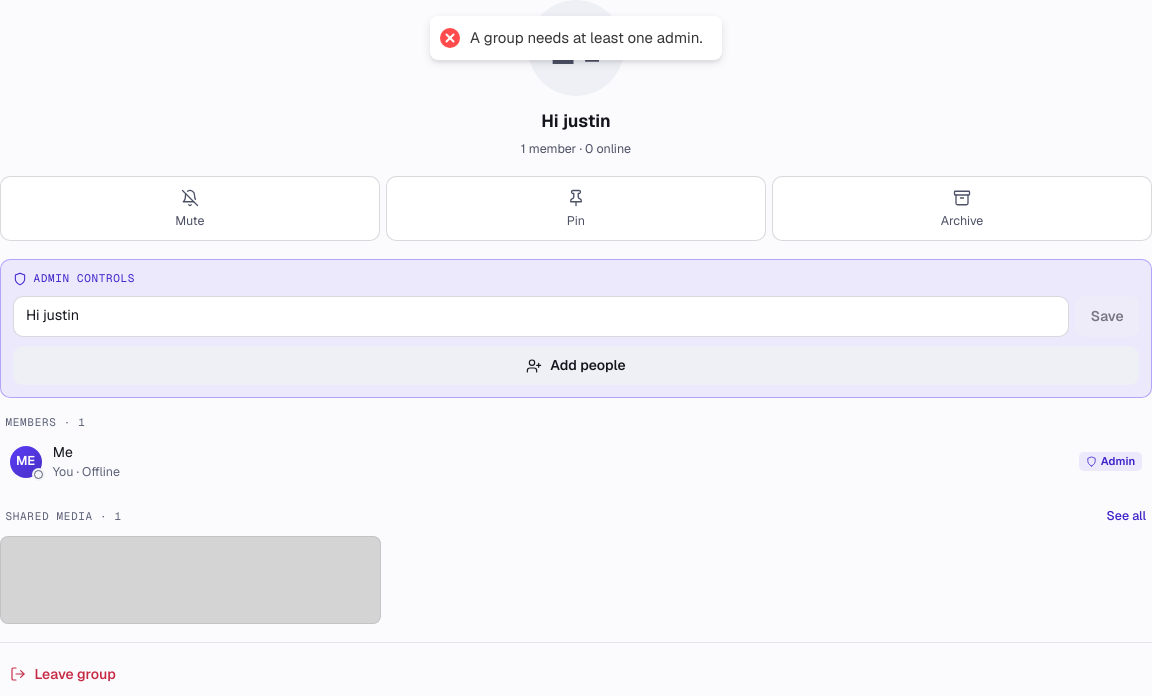
Test: GroupInfoPanel — admin actions › keeps whoever couldn’t be added selected, so trying again only retries them
Click the button "Add people".
click(576, 366)  # box [13,346,1139,385]
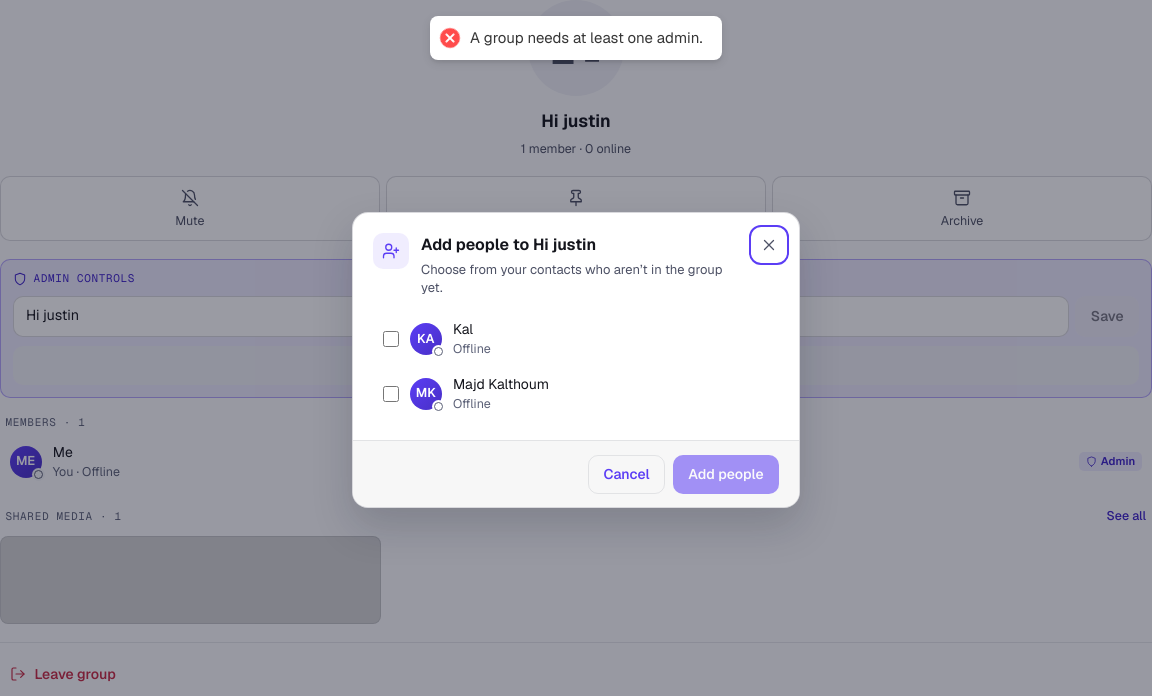
Expected: the text "Kal" is shown, [453,320,473,338]
Click the checkbox labelled "KA Kal Offline".
click(391, 339)  # box [383,331,399,347]
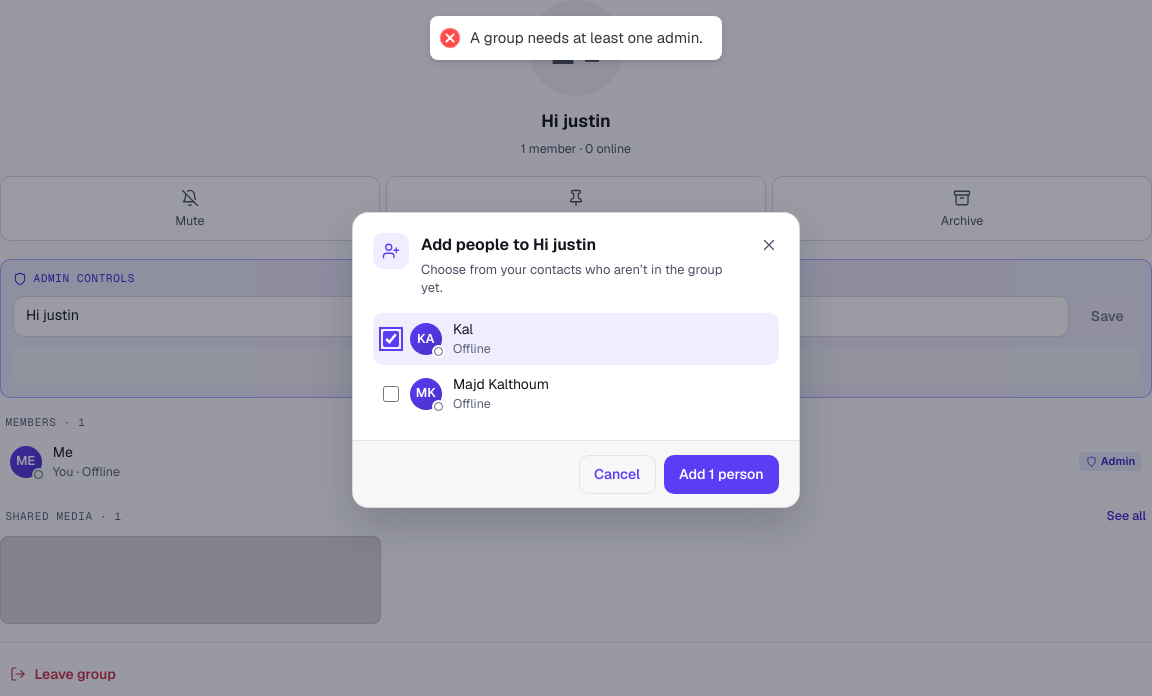
Click the 2nd checkbox.
click(391, 394)  # box [383,386,399,402]
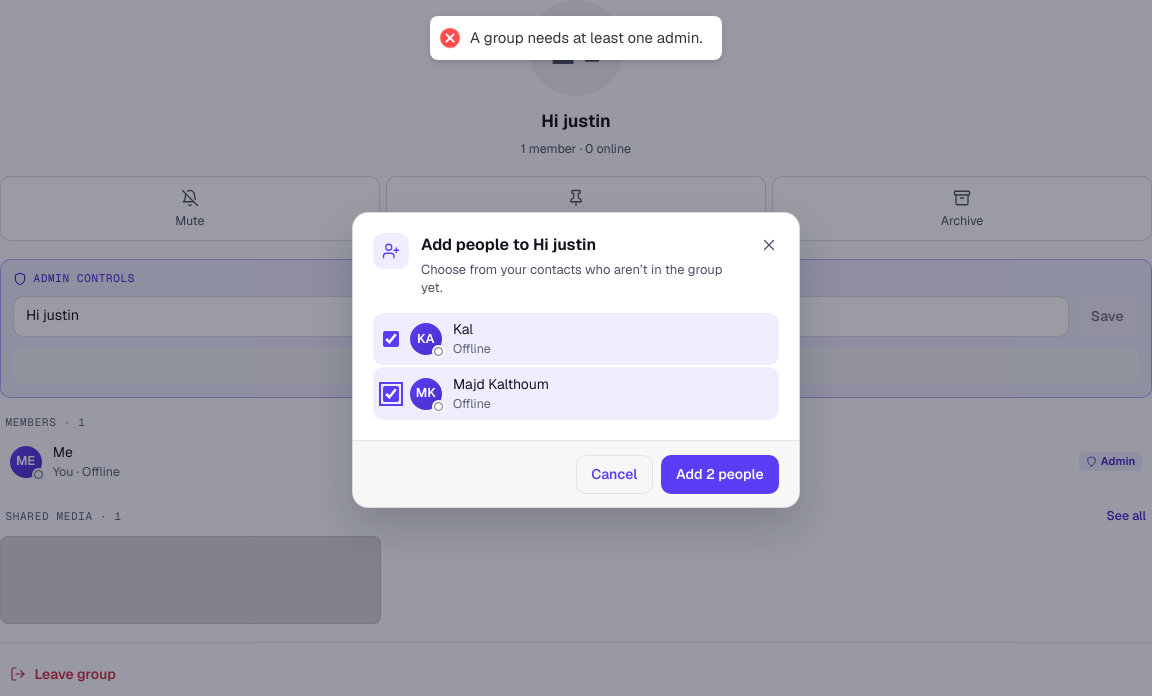
Click the button "Add 2 people".
click(720, 474)  # box [661,454,779,494]
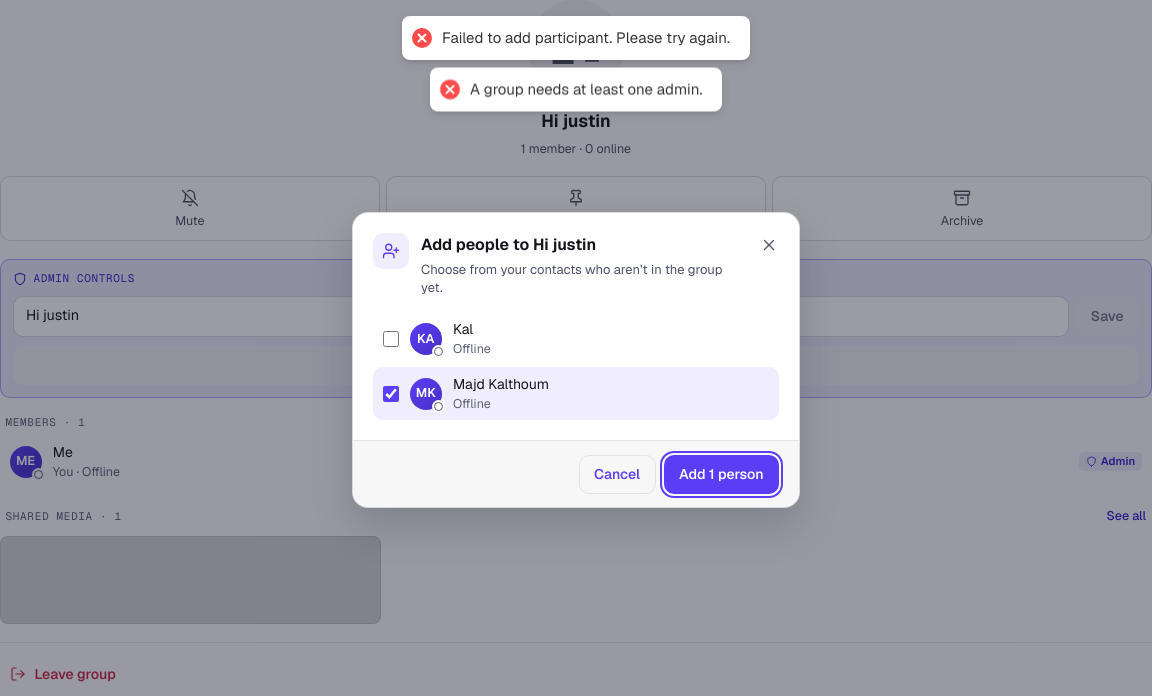
Expected: the 2nd checkbox is checked, [383,386,399,402]
Expected: the checkbox labelled "KA Kal Offline" is not checked, [383,331,399,347]
Expected: the button "Add 1 person" is shown, [664,454,779,494]
